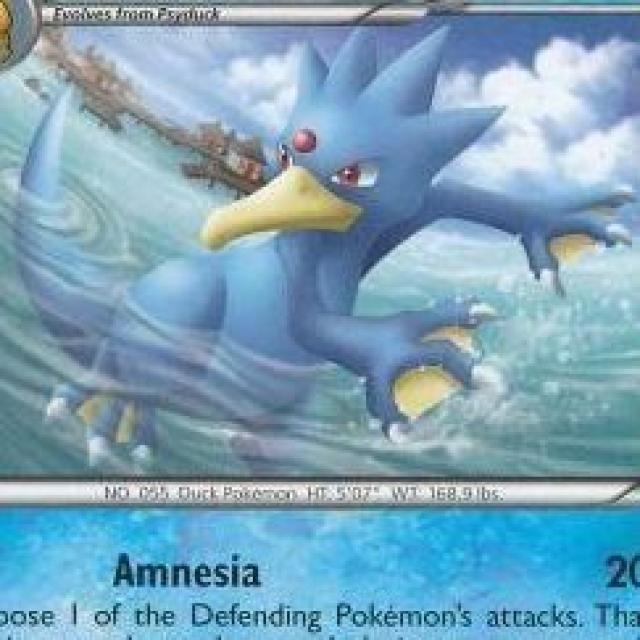Golduck: (107, 23, 640, 406)
